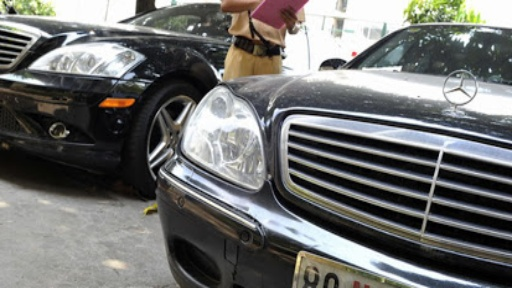plate: (284, 248, 426, 288)
